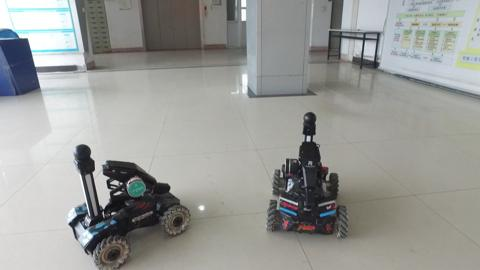chariot: (62, 144, 191, 270), (261, 107, 350, 239)
